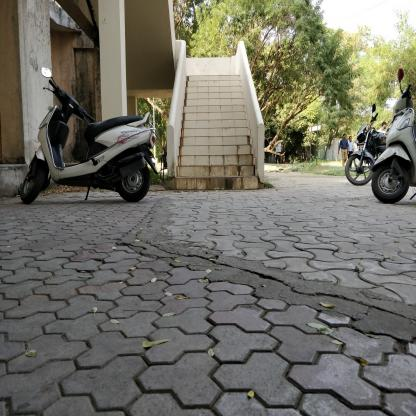stairs: (189, 72, 239, 198)
